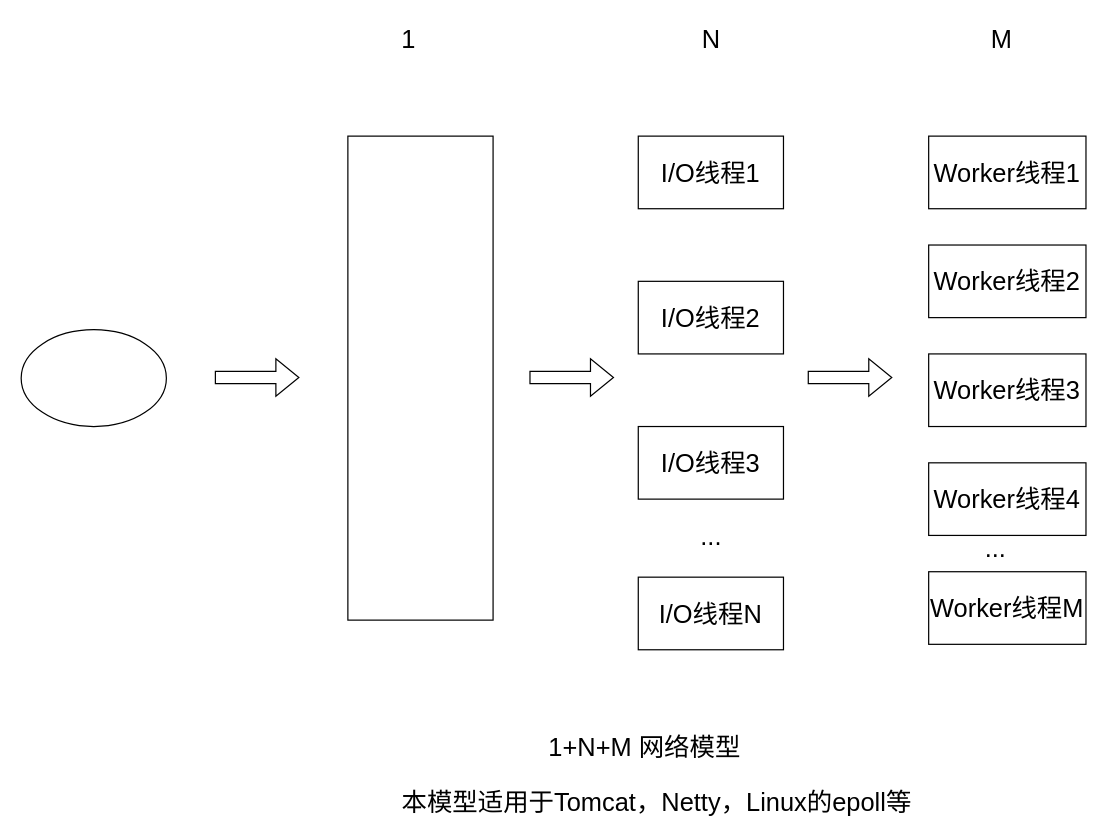
Some shapes in this 1107 by 840 pixel diagram are drawn without their labels. The centre of each missing label's shape, as x and y in pixels:
"客户端" goes at pixel 93 378.
"监听线程" goes at pixel 420 377.
